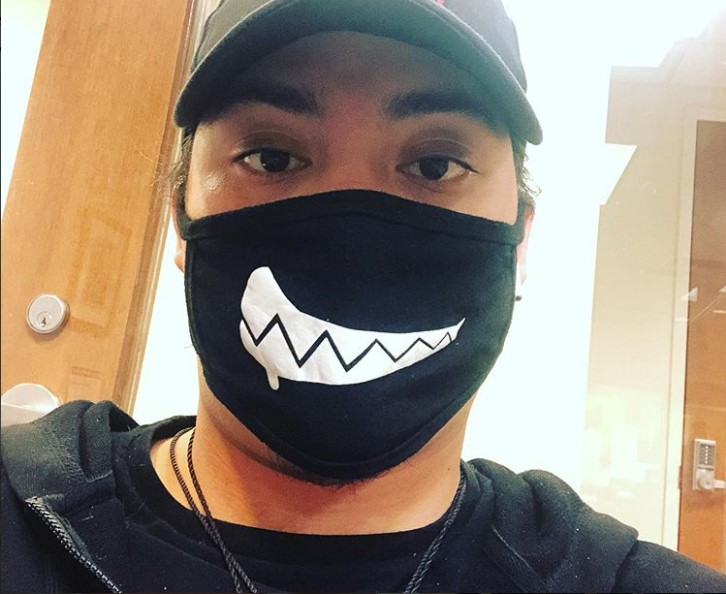face_with_mask: (176, 2, 547, 483)
